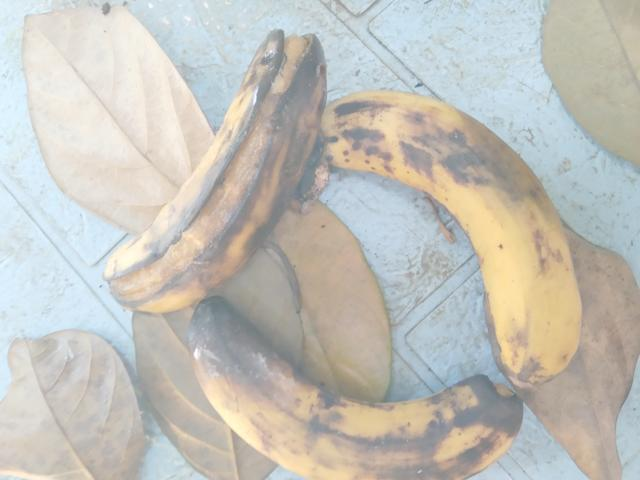overripe: (329, 59, 584, 376), (162, 290, 542, 478)
rotten: (75, 18, 324, 324)
